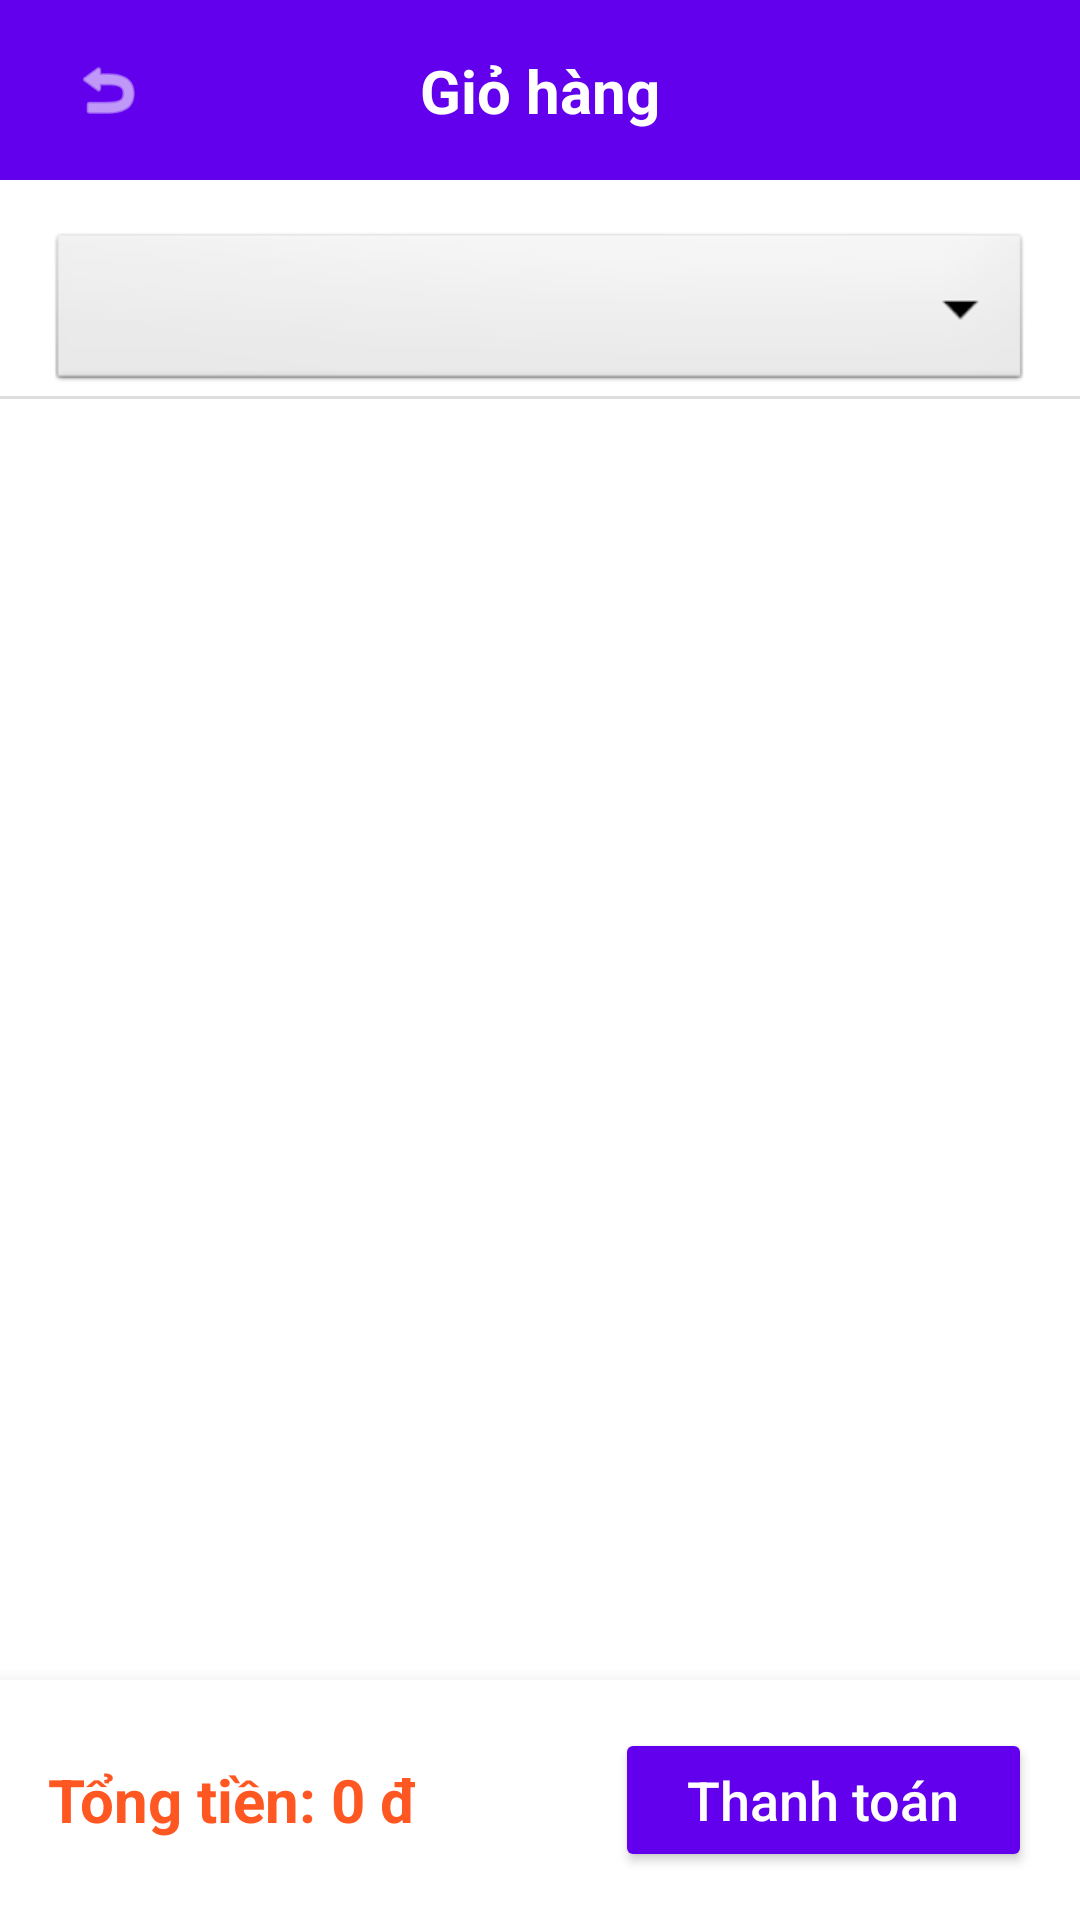

Icons on this 1080×1920 Android screen, each with its box as (x1, y1, x2, y2):
revert: (83, 67, 135, 114)
